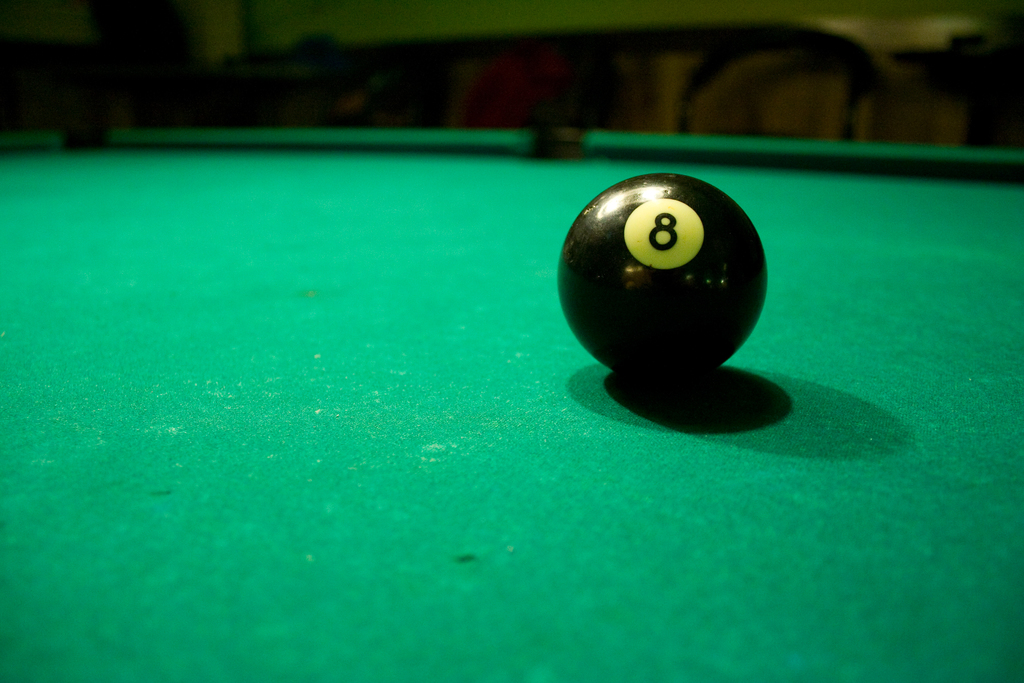Ball: (559, 175, 767, 399)
